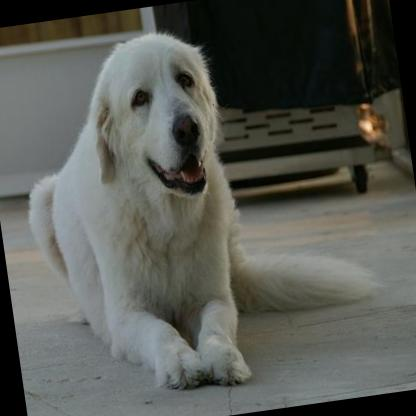Great_Pyrenees: (1, 4, 388, 409)
